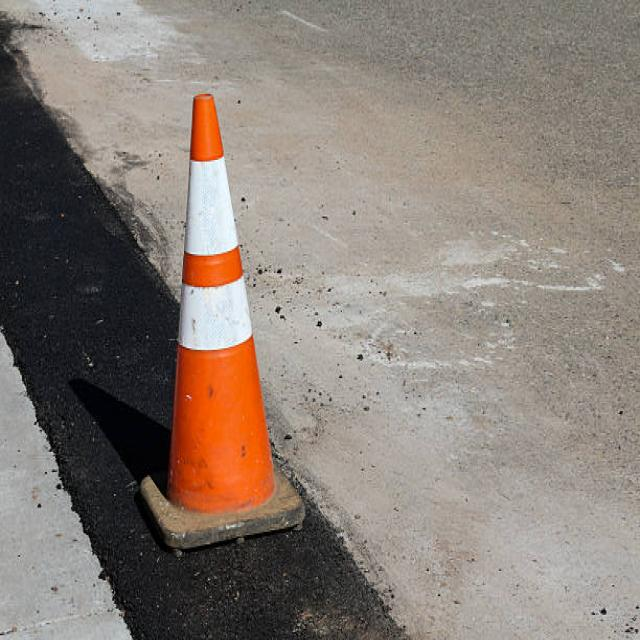Traffic Cone: (116, 59, 335, 568)
